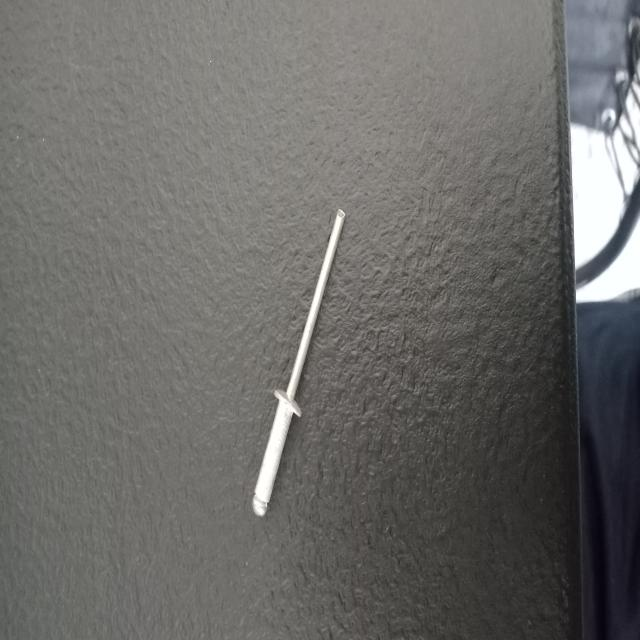rivet: (251, 208, 345, 518)
